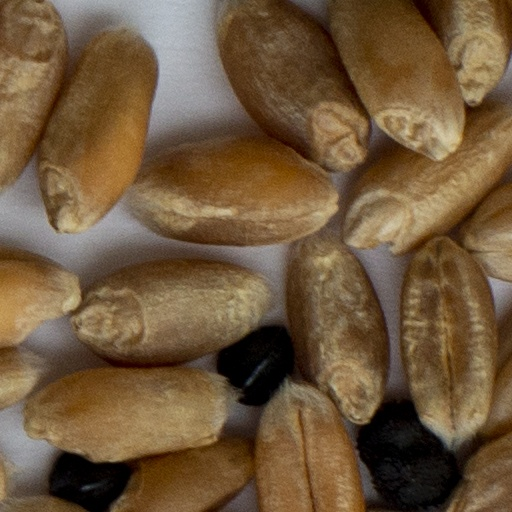Agrostemma-poly: (358, 404, 404, 511)
Fallopia-Сonvolvulus-poly: (50, 455, 455, 510), (219, 329, 329, 405)
